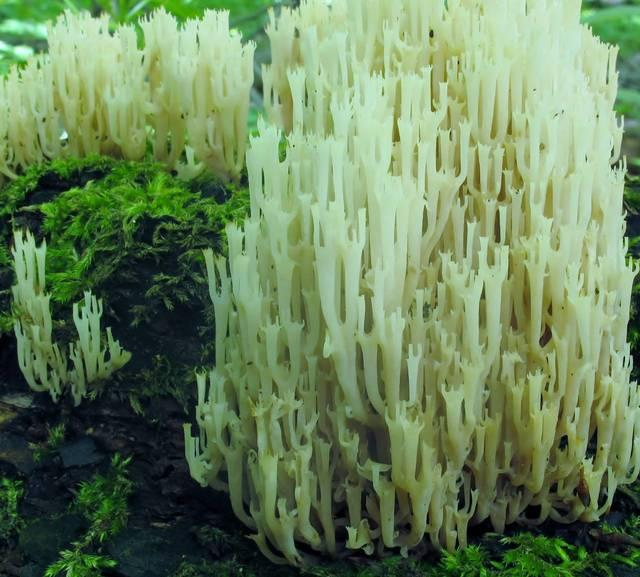Edible Mushroom: (181, 0, 639, 567), (0, 5, 256, 190), (6, 224, 132, 407)
